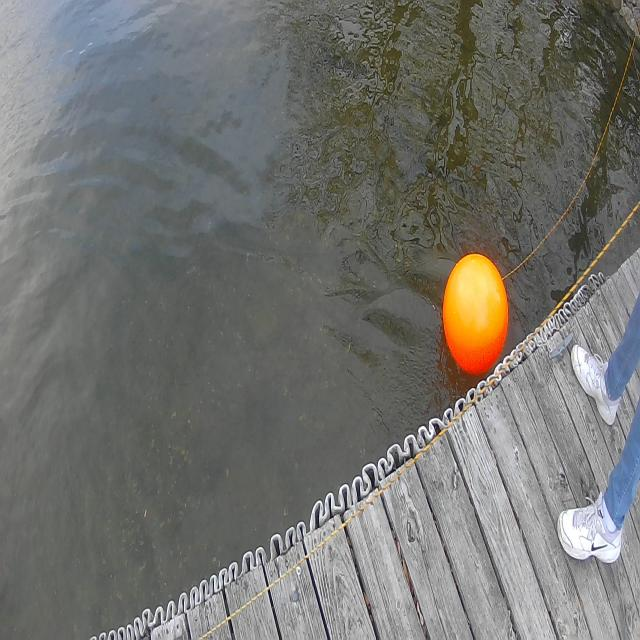Buoy: (436, 238, 515, 382)
